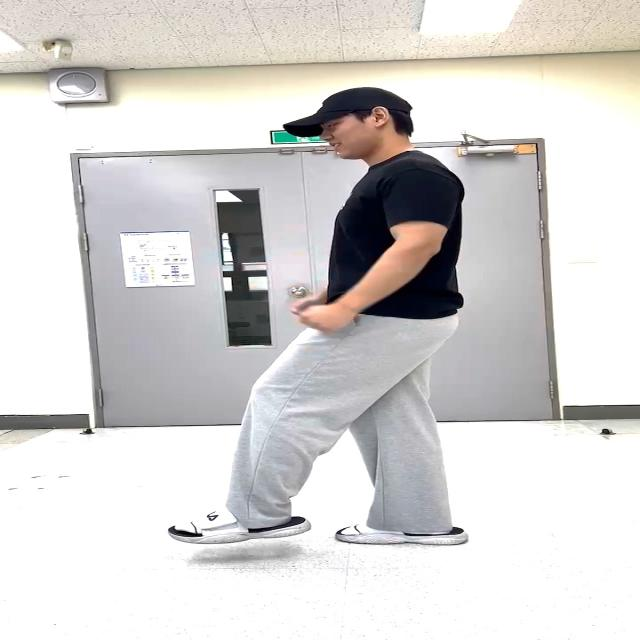leg: (152, 313, 368, 553)
